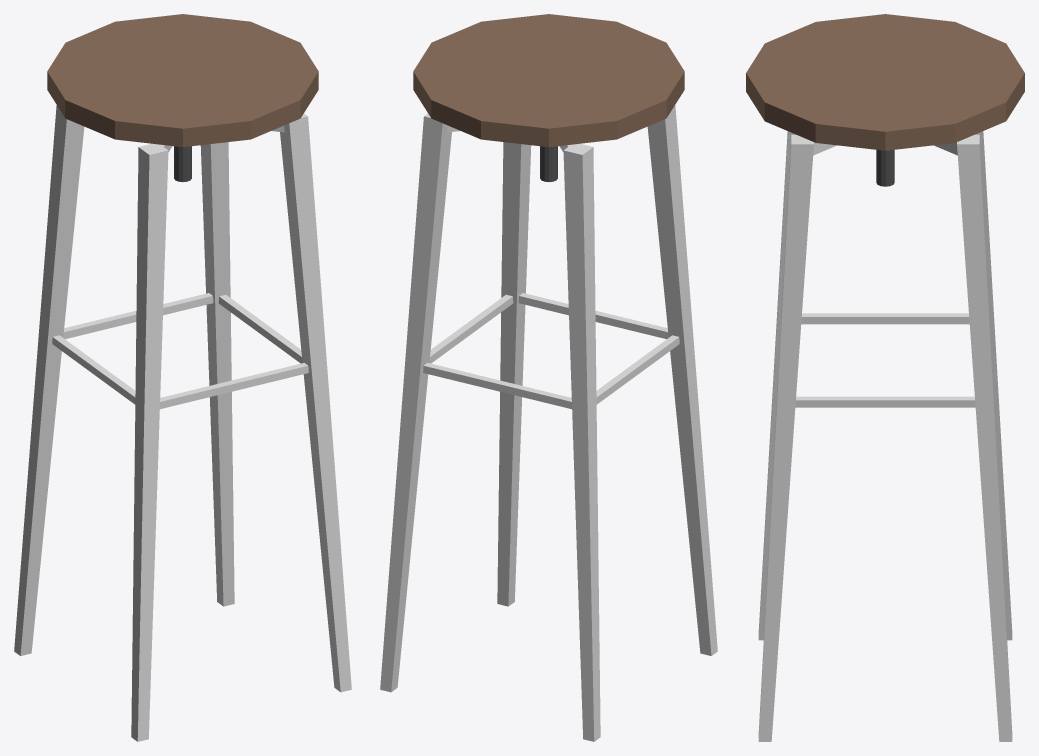
File: Chair_10_C1.fbx
3 renders of one model, left to right at view 1: azimuth 30°, elevation 25°; view 2: azimuth 150°, elevation 25°; view 3: azimuth 270°, elevation 25°, orthographic. The views are drawn at different scales.
Parts seen in each view (by area): view 1: Chair_10_C1; view 2: Chair_10_C1; view 3: Chair_10_C1.
Boxes of the visible parts, <box> form: Chair_10_C1: <box>14,14,351,741</box>; Chair_10_C1: <box>380,14,717,741</box>; Chair_10_C1: <box>746,14,1024,741</box>.
Bounding box in the file's own units: 37.05 × 90.25 × 37.05.
